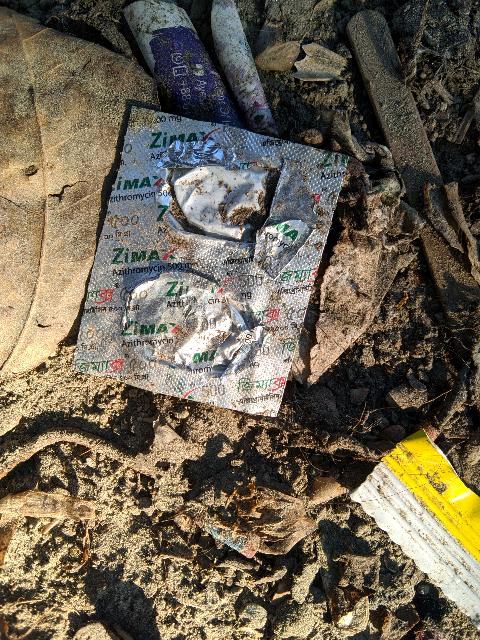medicine: (64, 82, 355, 432)
